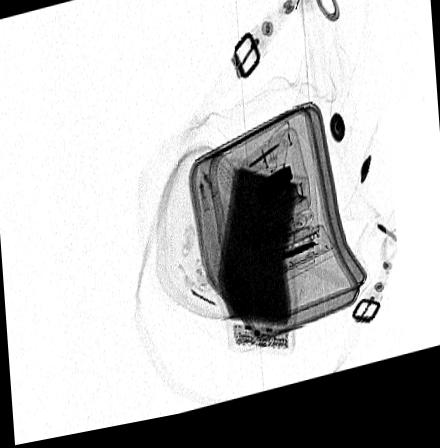Powerbank: (212, 169, 309, 367)
